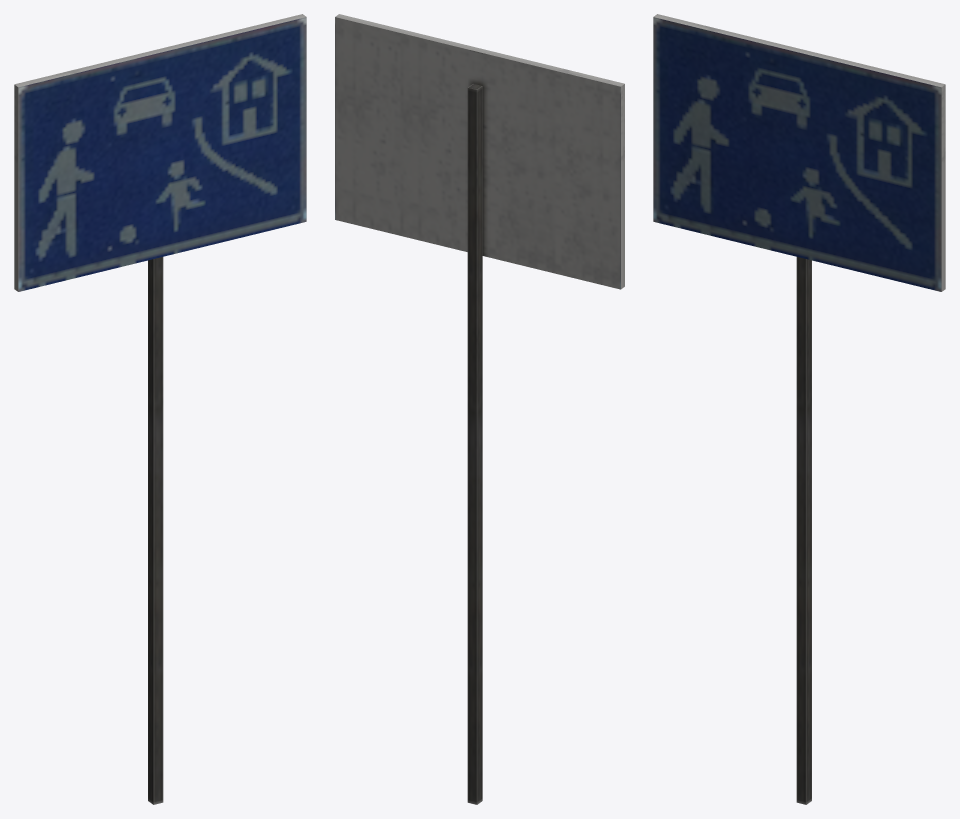
The model's file is Sign07.obj.
3 renders of one model, left to right at view 1: azimuth 30°, elevation 25°; view 2: azimuth 150°, elevation 25°; view 3: azimuth 330°, elevation 25°, orthographic.
Visible parts, largest first — view 1: Sign07; view 2: Sign07; view 3: Sign07.
Boxes of the visible parts, box(x1,y1,x2,y2) form: Sign07: box(14, 14, 306, 804); Sign07: box(335, 14, 624, 804); Sign07: box(653, 14, 945, 804).
Size of the model in its own units: 1.2 by 3 by 0.07.
